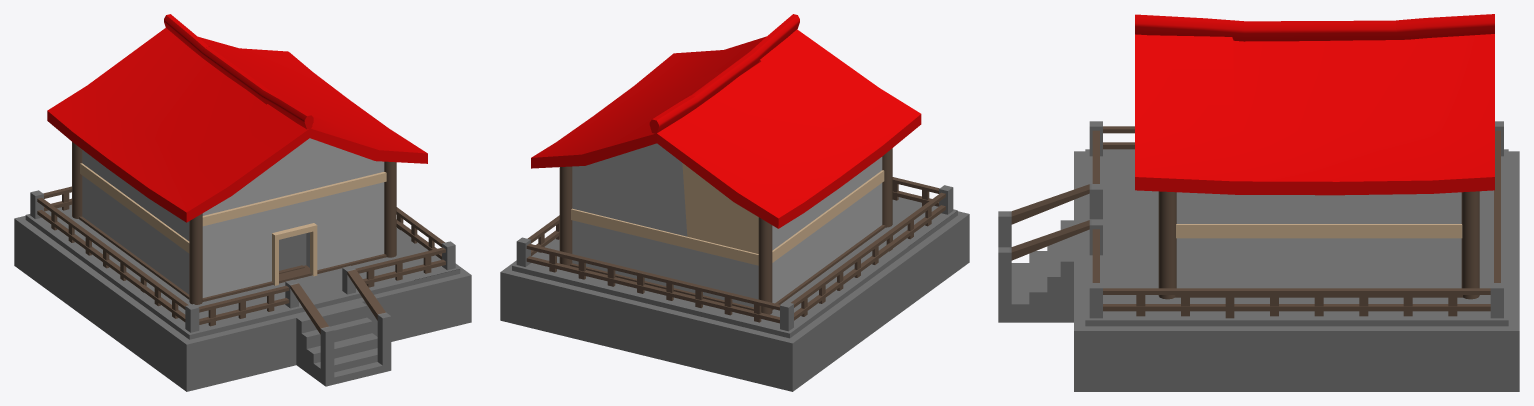
Rendered from Japanese_house_08 (2).fbx.
3 views of the same model, side by side, from view 1: azimuth 30°, elevation 25°; view 2: azimuth 150°, elevation 25°; view 3: azimuth 270°, elevation 25° (orthographic). The views are drawn at different scales.
Visible parts, largest first — view 1: Japanese_house_08; view 2: Japanese_house_08; view 3: Japanese_house_08.
Part boxes in pixels (x1,y1,x2,y2): Japanese_house_08: [14, 14, 471, 391]; Japanese_house_08: [500, 14, 969, 391]; Japanese_house_08: [998, 14, 1519, 391].
Size of the model in its own units: 110 by 82.57 by 135.
